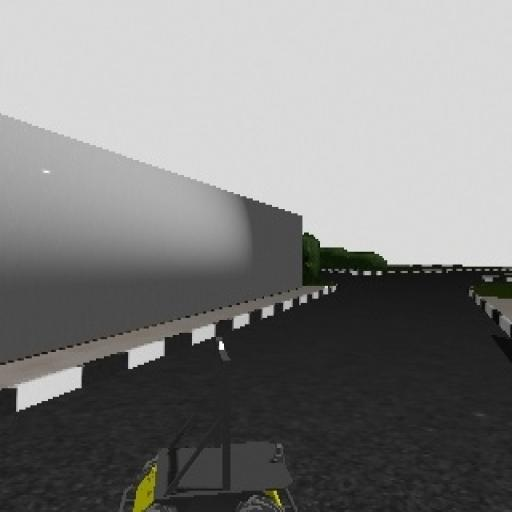huskya200: (98, 326, 310, 512)
